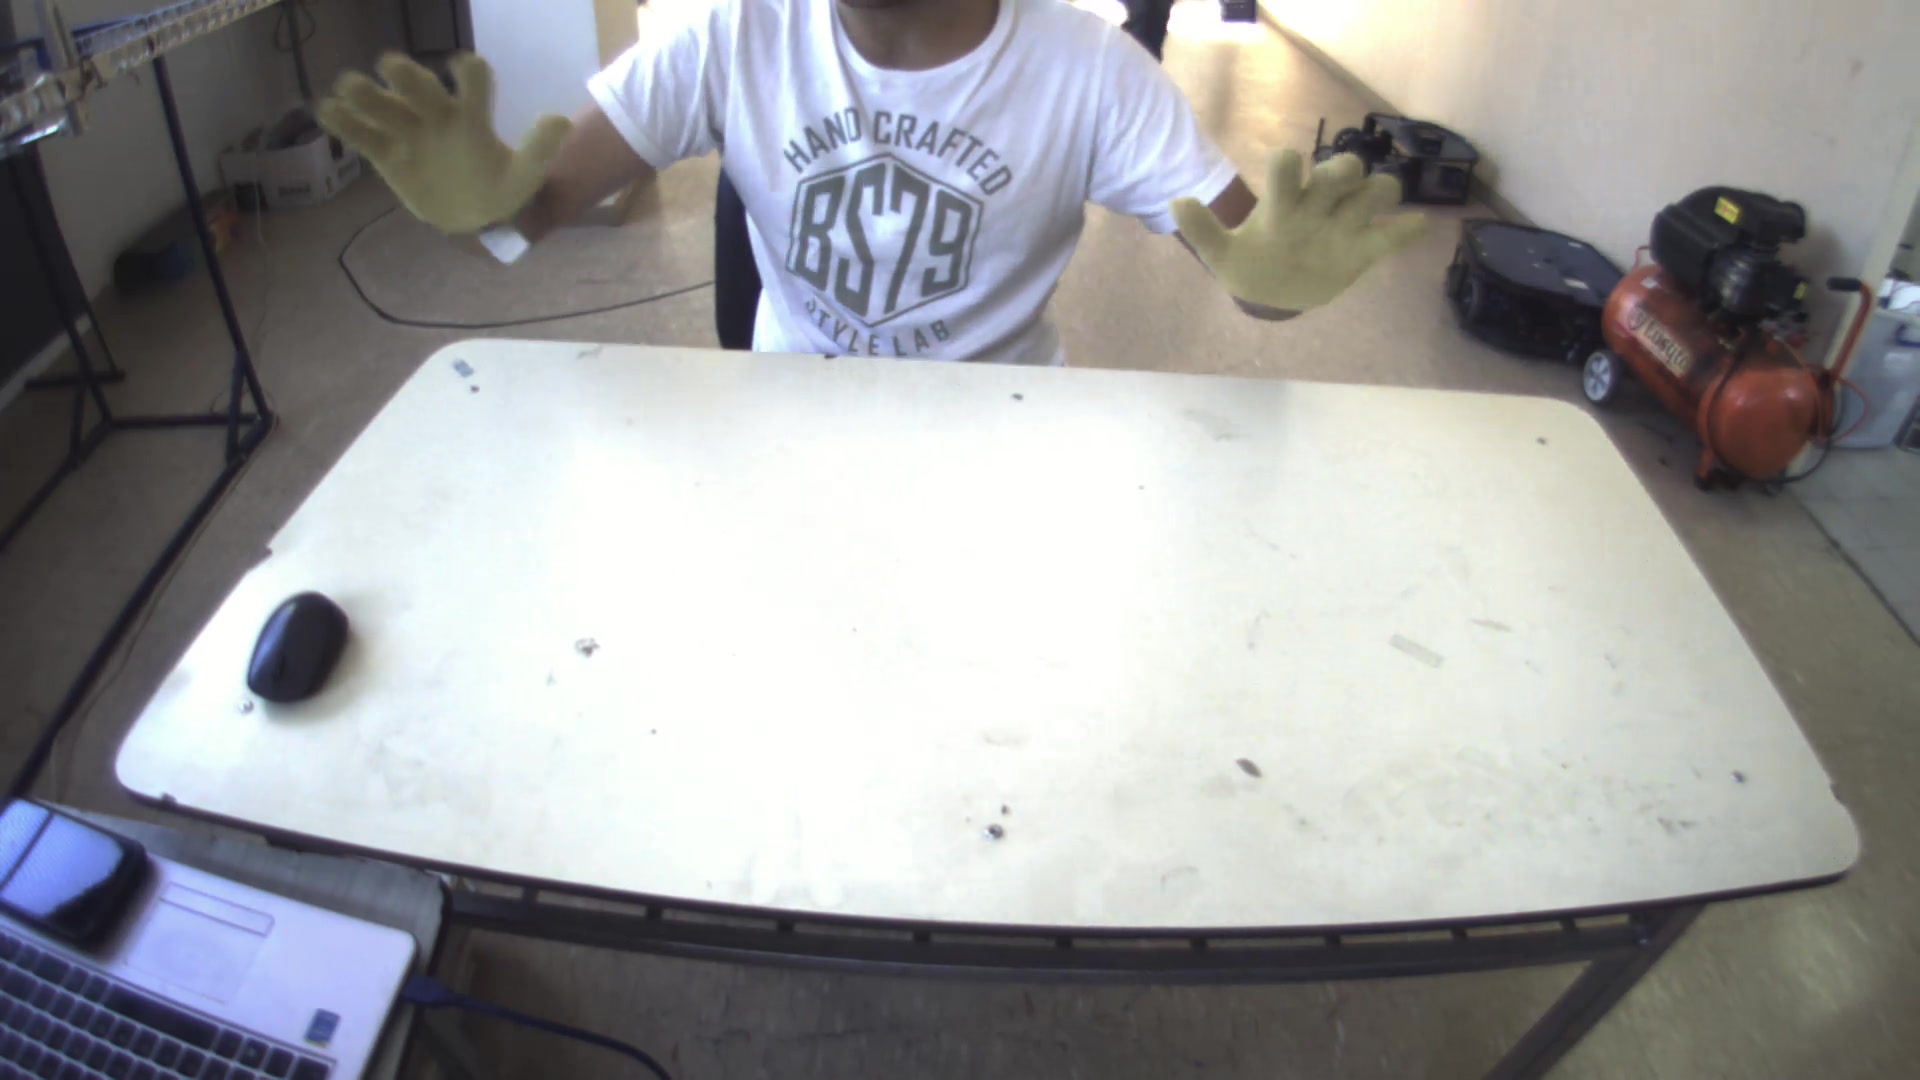hand: (302, 40, 564, 235), (1168, 135, 1443, 316)
